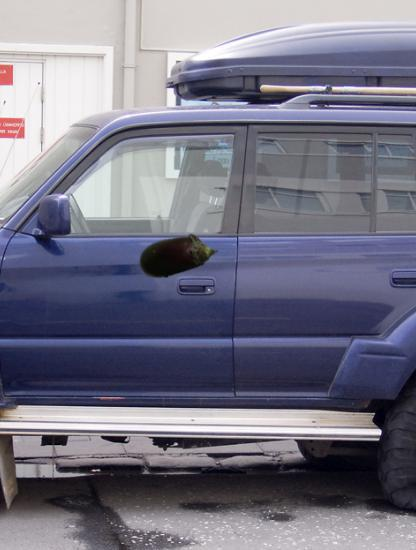Eggplant: (137, 213, 221, 297)
